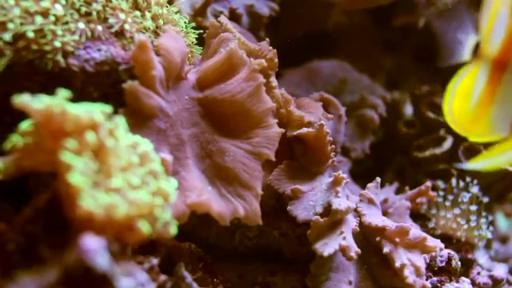Fish: (443, 0, 511, 171)
